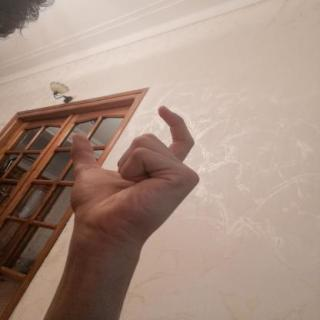NOON: (54, 97, 213, 255)
